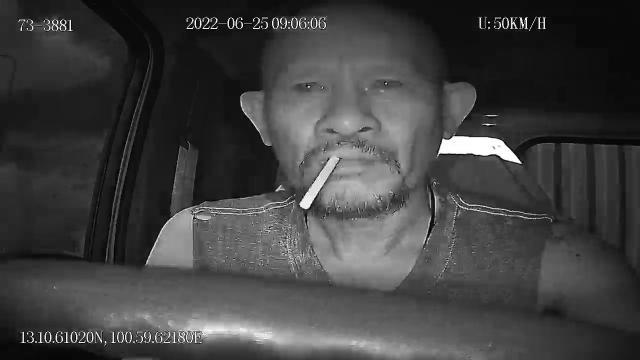SafeDriving: (283, 66, 338, 100), (360, 68, 412, 96)
Smoking: (298, 153, 339, 211)
